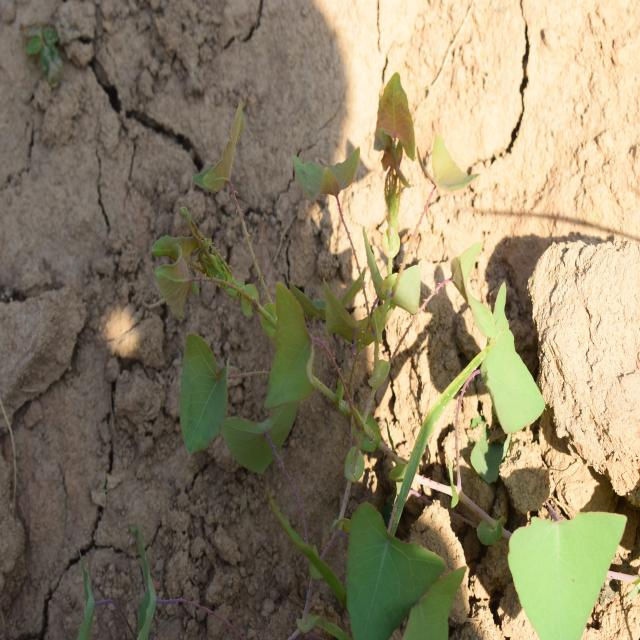Asiatic_Smartweed: (168, 111, 326, 463), (500, 499, 640, 634), (329, 499, 456, 640)
